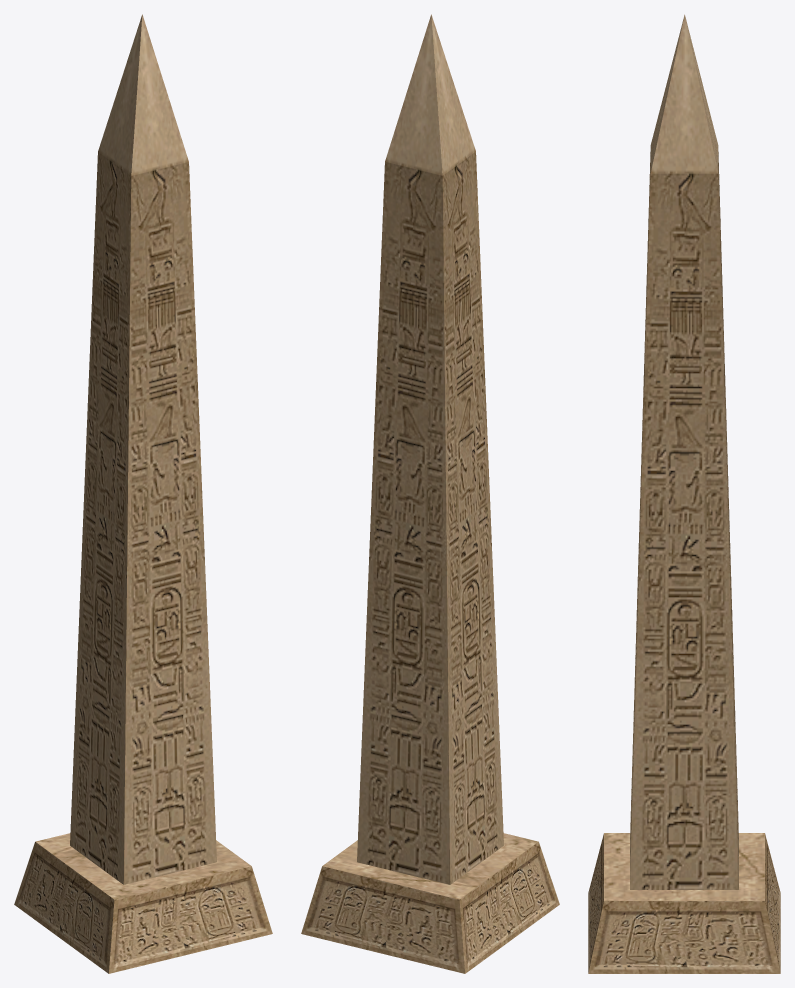
File: obelisk_a.dae
3 renders of one model, left to right at view 1: azimuth 30°, elevation 25°; view 2: azimuth 150°, elevation 25°; view 3: azimuth 270°, elevation 25°, orthographic.
Visible parts, largest first — view 1: default; view 2: default; view 3: default.
Part boxes in pixels (x1=…): default: x1=14, y1=14, x2=272, y2=973; default: x1=301, y1=14, x2=559, y2=973; default: x1=588, y1=14, x2=780, y2=973.
Bounding box in the file's own units: 3.66 × 3.66 × 19.32.
